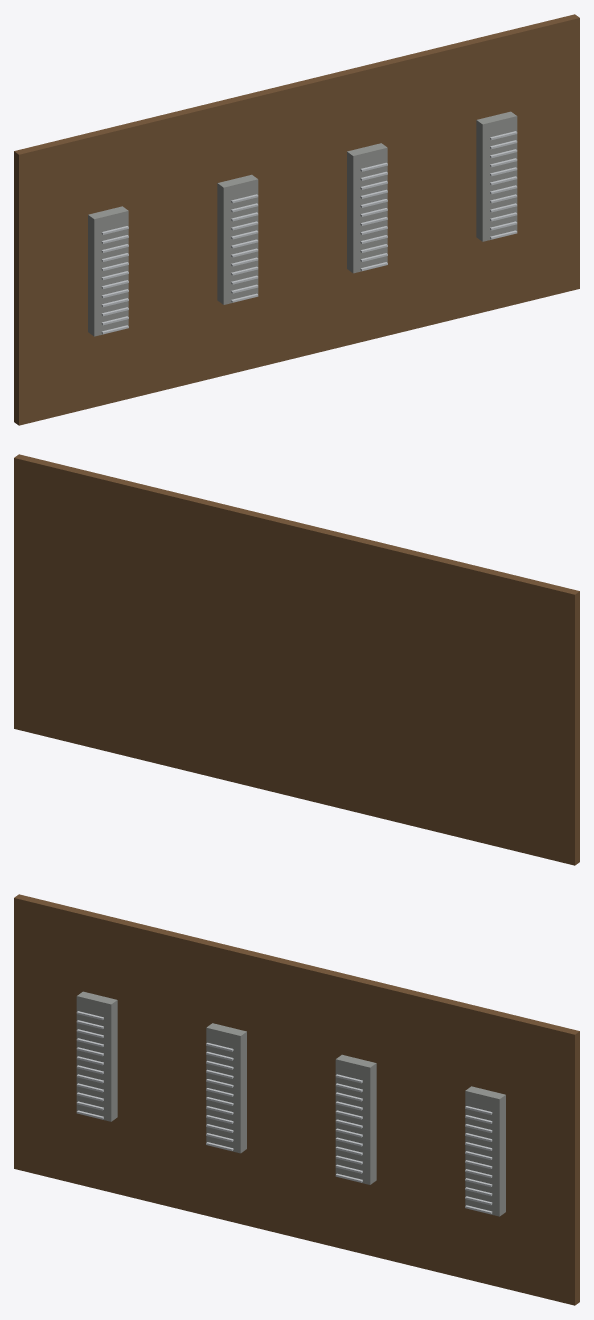
The model's file is punch-down-frame.glb.
3 views of the same model, one above another, from view 1: azimuth 30°, elevation 25°; view 2: azimuth 150°, elevation 25°; view 3: azimuth 330°, elevation 25° (orthographic).
Parts seen in each view (by area): view 1: kit-punch-down; view 2: kit-punch-down; view 3: kit-punch-down.
Part boxes in pixels (x1,y1,x2,y2): kit-punch-down: (14,14,579,425); kit-punch-down: (14,454,579,865); kit-punch-down: (14,894,579,1305).
Bounding box in the file's own units: 1.3 × 0.5999 × 0.063.
